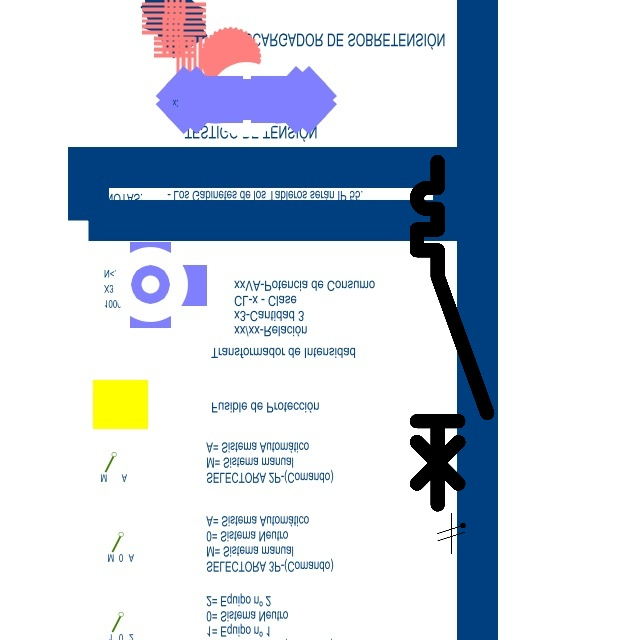interruptor_termomagnetico: (408, 153, 496, 513)
